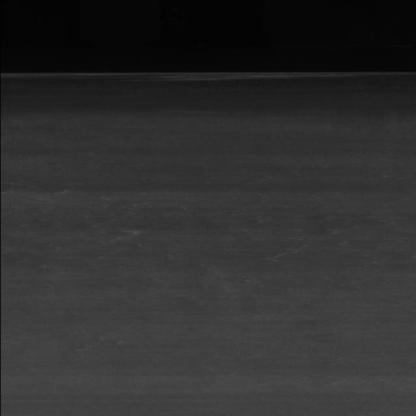silk_spot: (52, 177, 172, 266), (236, 204, 338, 280)
